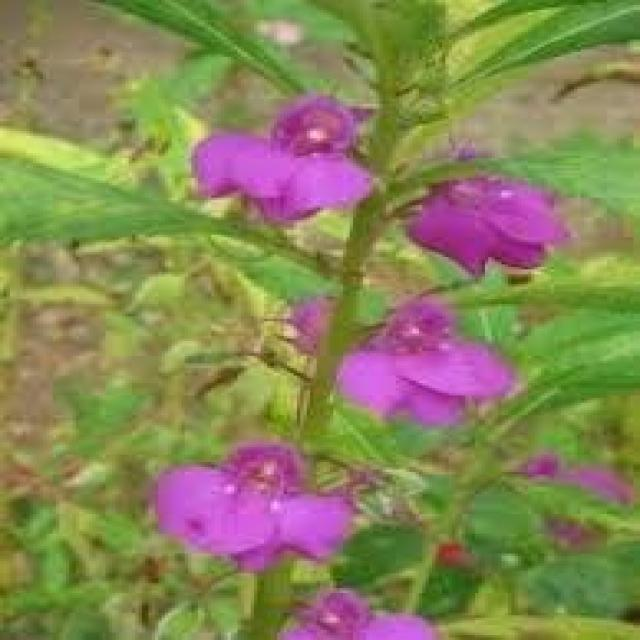organic waste: (175, 99, 386, 222), (411, 148, 595, 287), (140, 454, 355, 570), (363, 306, 528, 428), (278, 585, 440, 640)
